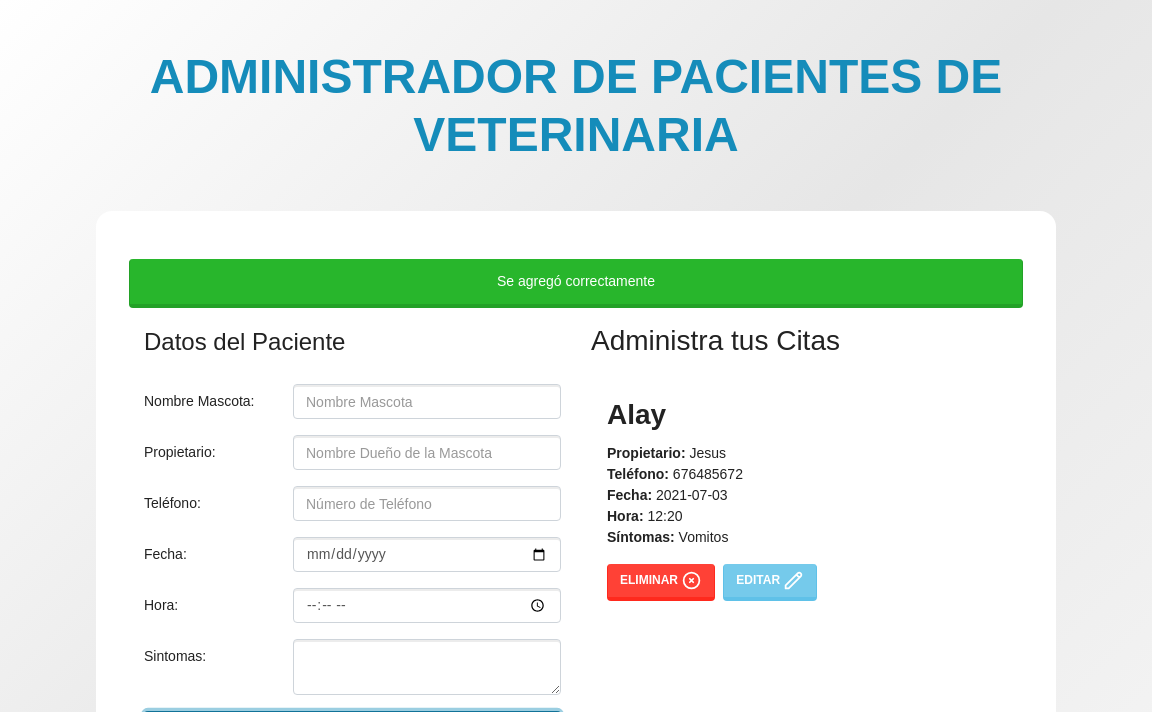
Test: Llenar los campos del form y edita la cita › Edita la cita correctamente
The image size is (1152, 712).
Click the button with class "btn-editar": (770, 583) [723, 564, 817, 601]
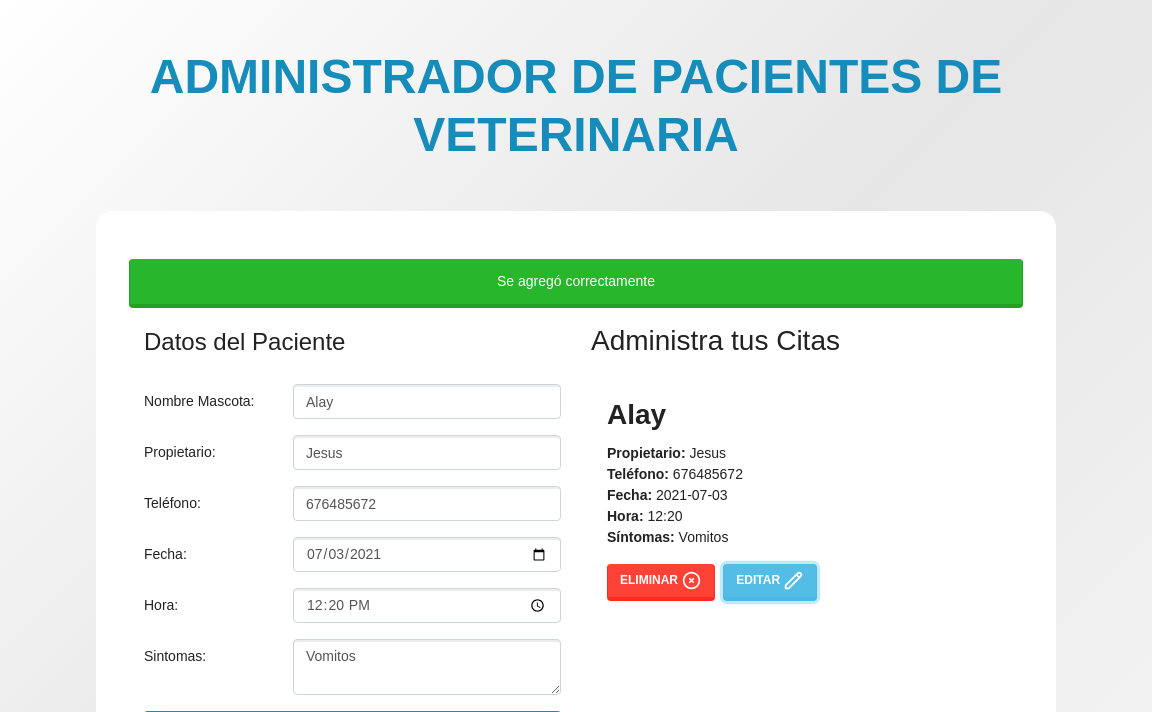
Replace the text in the field with id "mascota" with "Ronaldo": (427, 402) [293, 384, 561, 419]
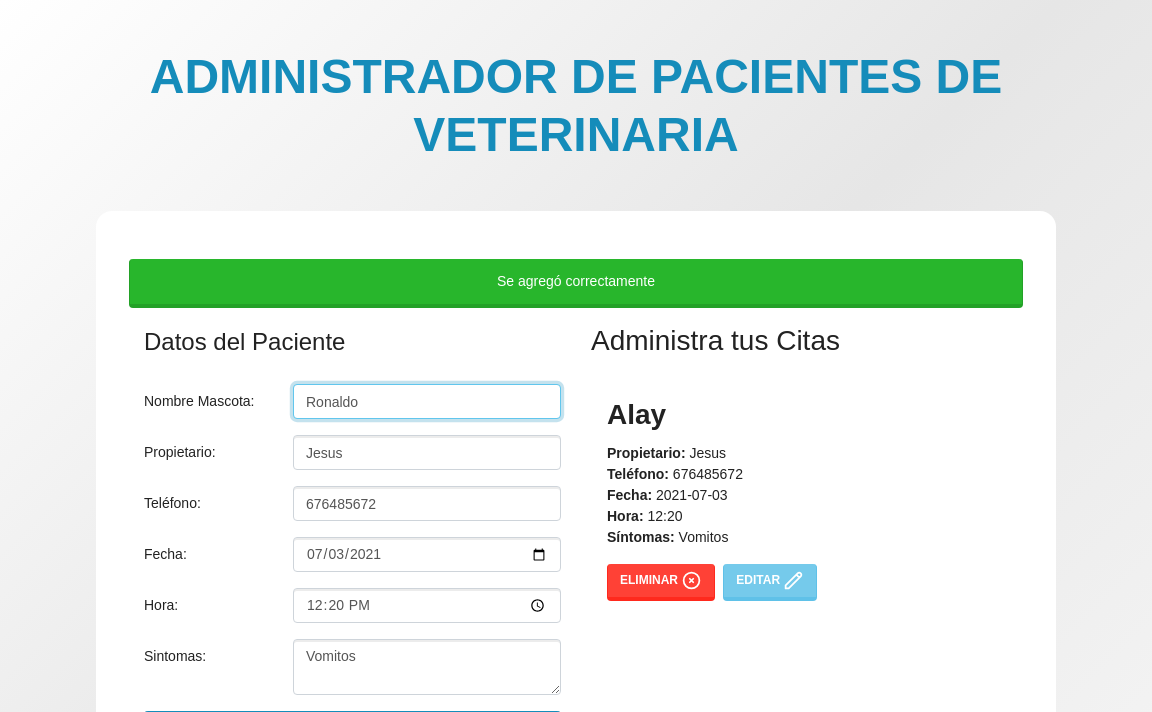
Scroll
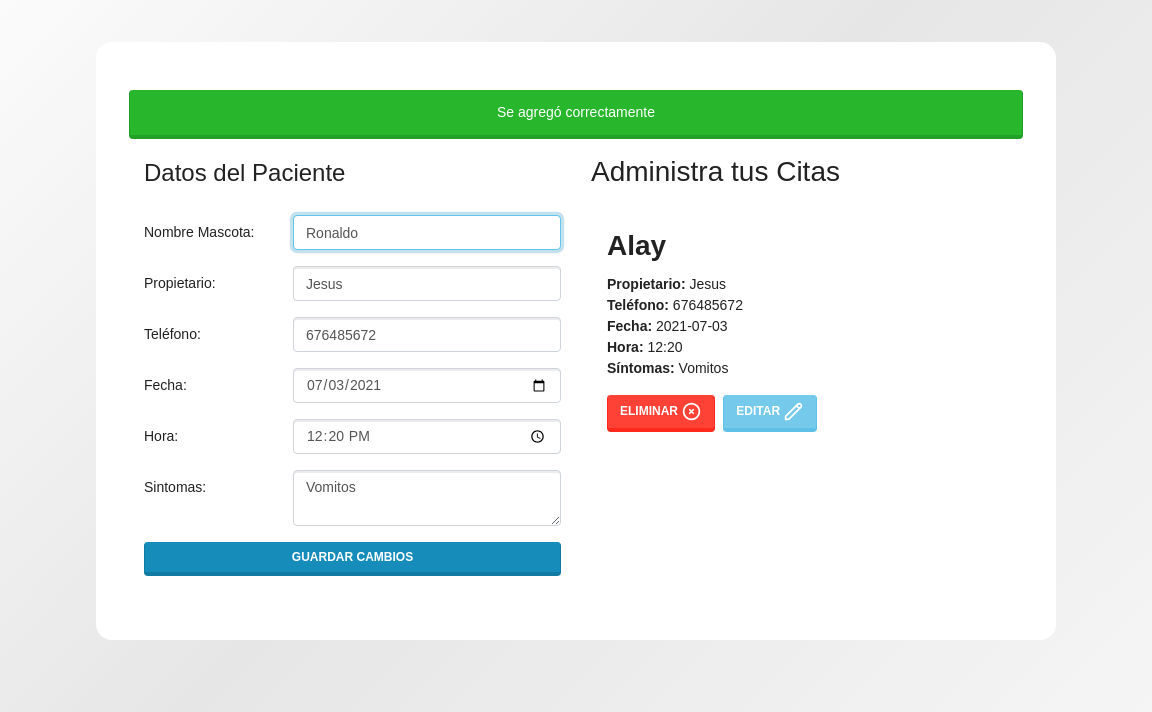
Click the button "Guardar Cambios": (353, 559) [144, 542, 561, 576]
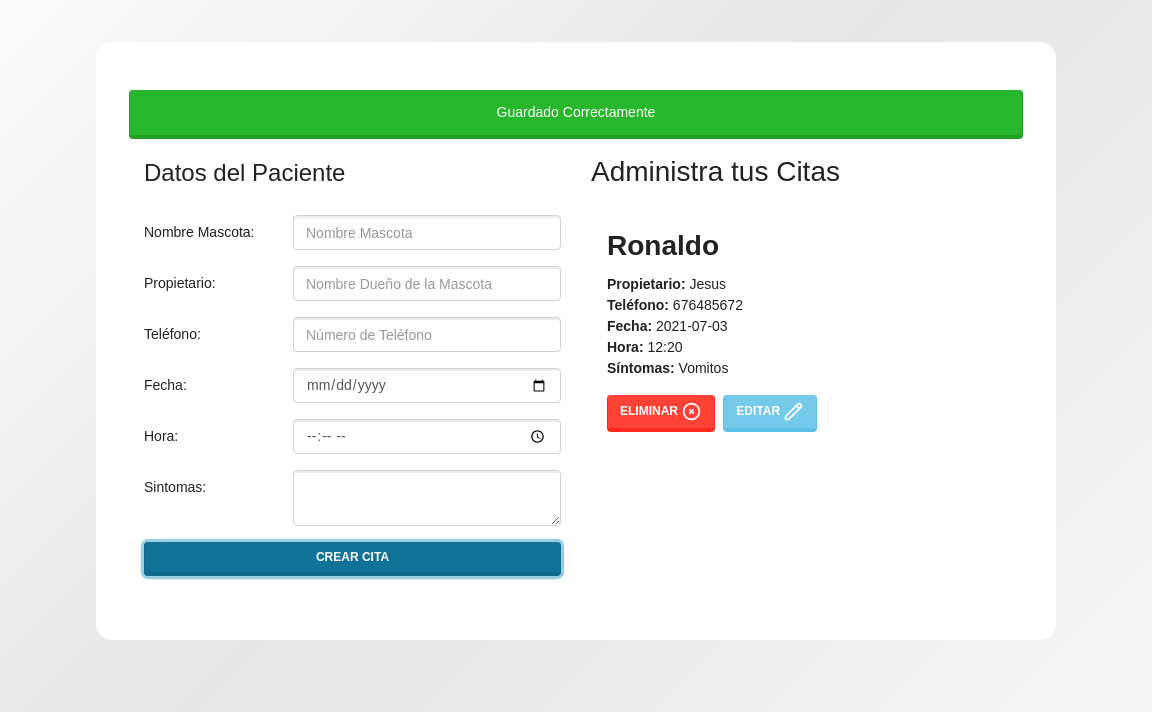
Expected: the text with class "alert" reads "Guardado Correctamente", [129, 90, 1023, 139]
